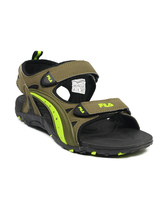shoes: (9, 52, 156, 154)
